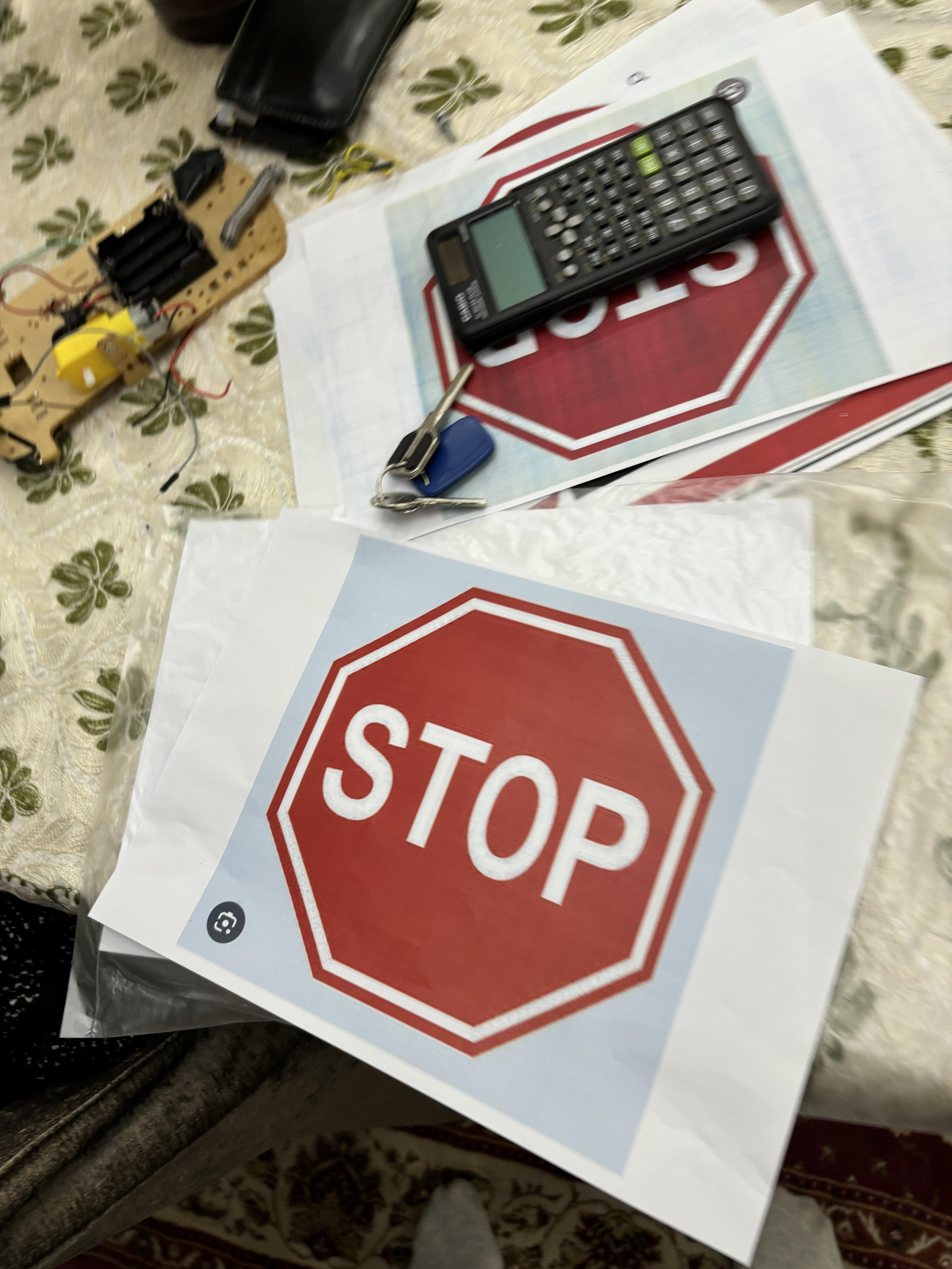Stop: (258, 578, 724, 1059)
